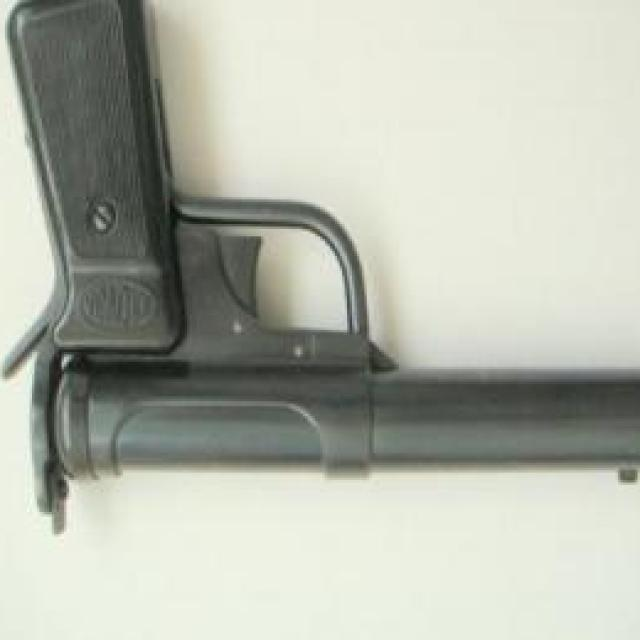pistol: (2, 0, 640, 539)
